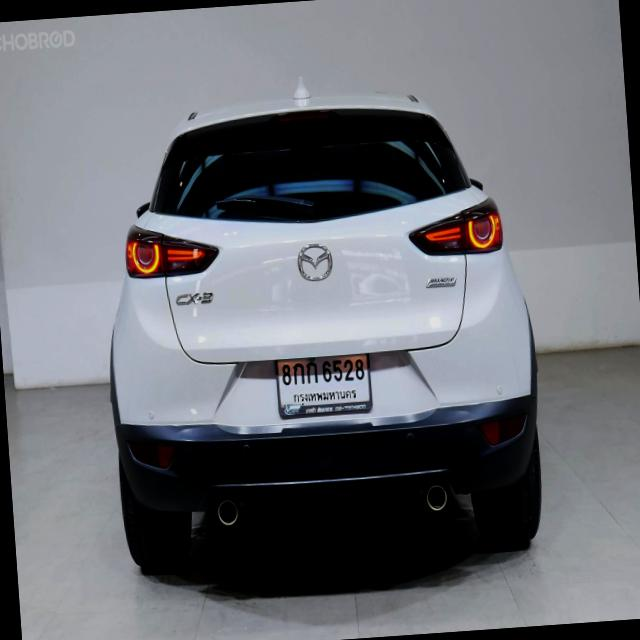license_plate: (274, 349, 374, 418)
